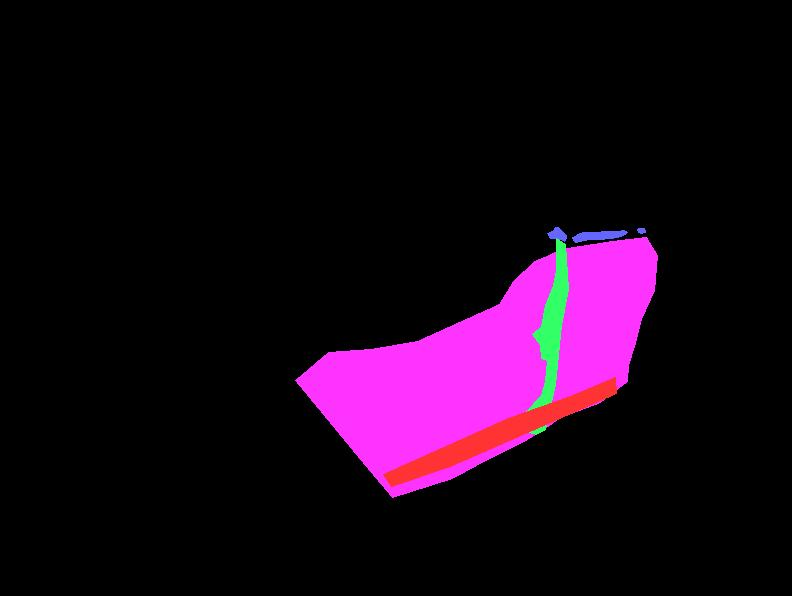Broken part: (525, 238, 568, 434)
Dent: (295, 237, 657, 497)
Missing part: (383, 377, 616, 486)
Scratch: (572, 230, 627, 242), (588, 356, 614, 380), (547, 227, 566, 241), (637, 228, 645, 233)
